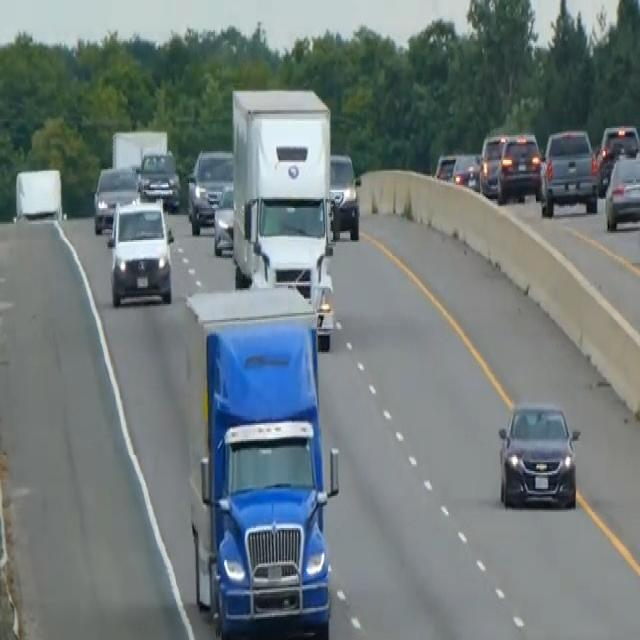car: (496, 398, 580, 510), (539, 126, 598, 217), (186, 146, 233, 233), (496, 130, 542, 204), (92, 162, 139, 233), (596, 121, 639, 192), (328, 149, 361, 240), (604, 151, 639, 231), (137, 148, 181, 210), (478, 132, 509, 196), (212, 183, 235, 256), (450, 150, 481, 190), (434, 150, 456, 182)
lorry: (182, 283, 340, 638), (229, 83, 337, 345)
minivan: (106, 196, 174, 306)
